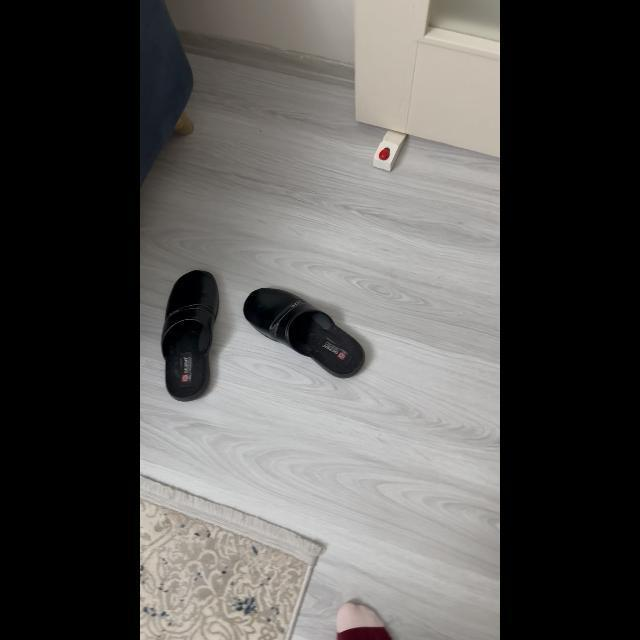slipper: (240, 280, 372, 388), (158, 259, 228, 406)
